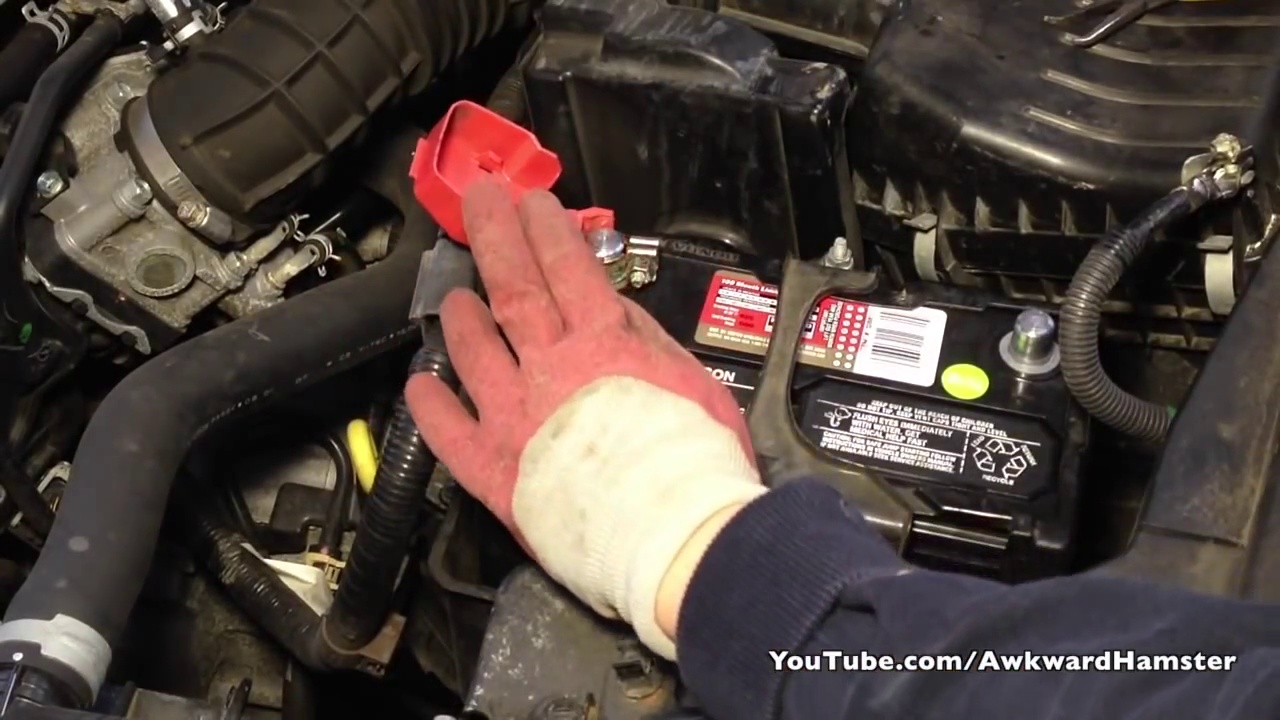battery: (521, 206, 1077, 554)
neg_disconnected: (971, 281, 1083, 394)
pos_connected: (510, 159, 670, 292)
pos_touched: (411, 128, 642, 369)
